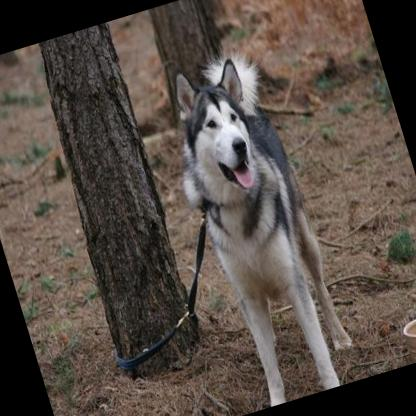malamute: (146, 37, 366, 411)
